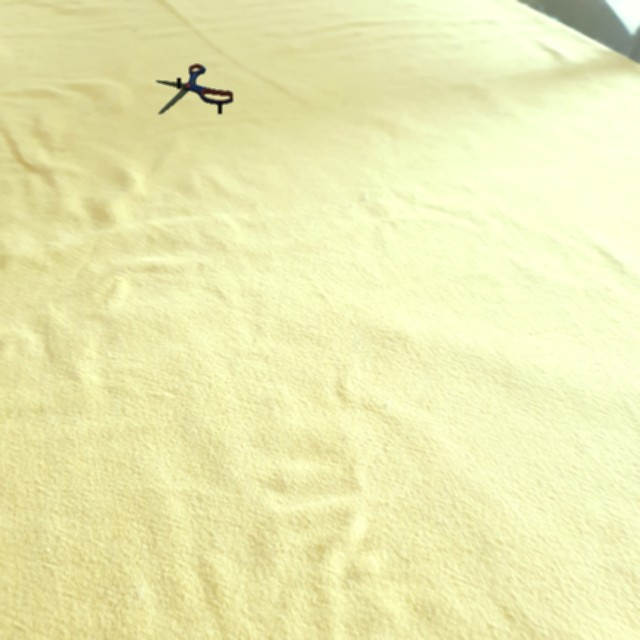scissors: (156, 64, 233, 114)
